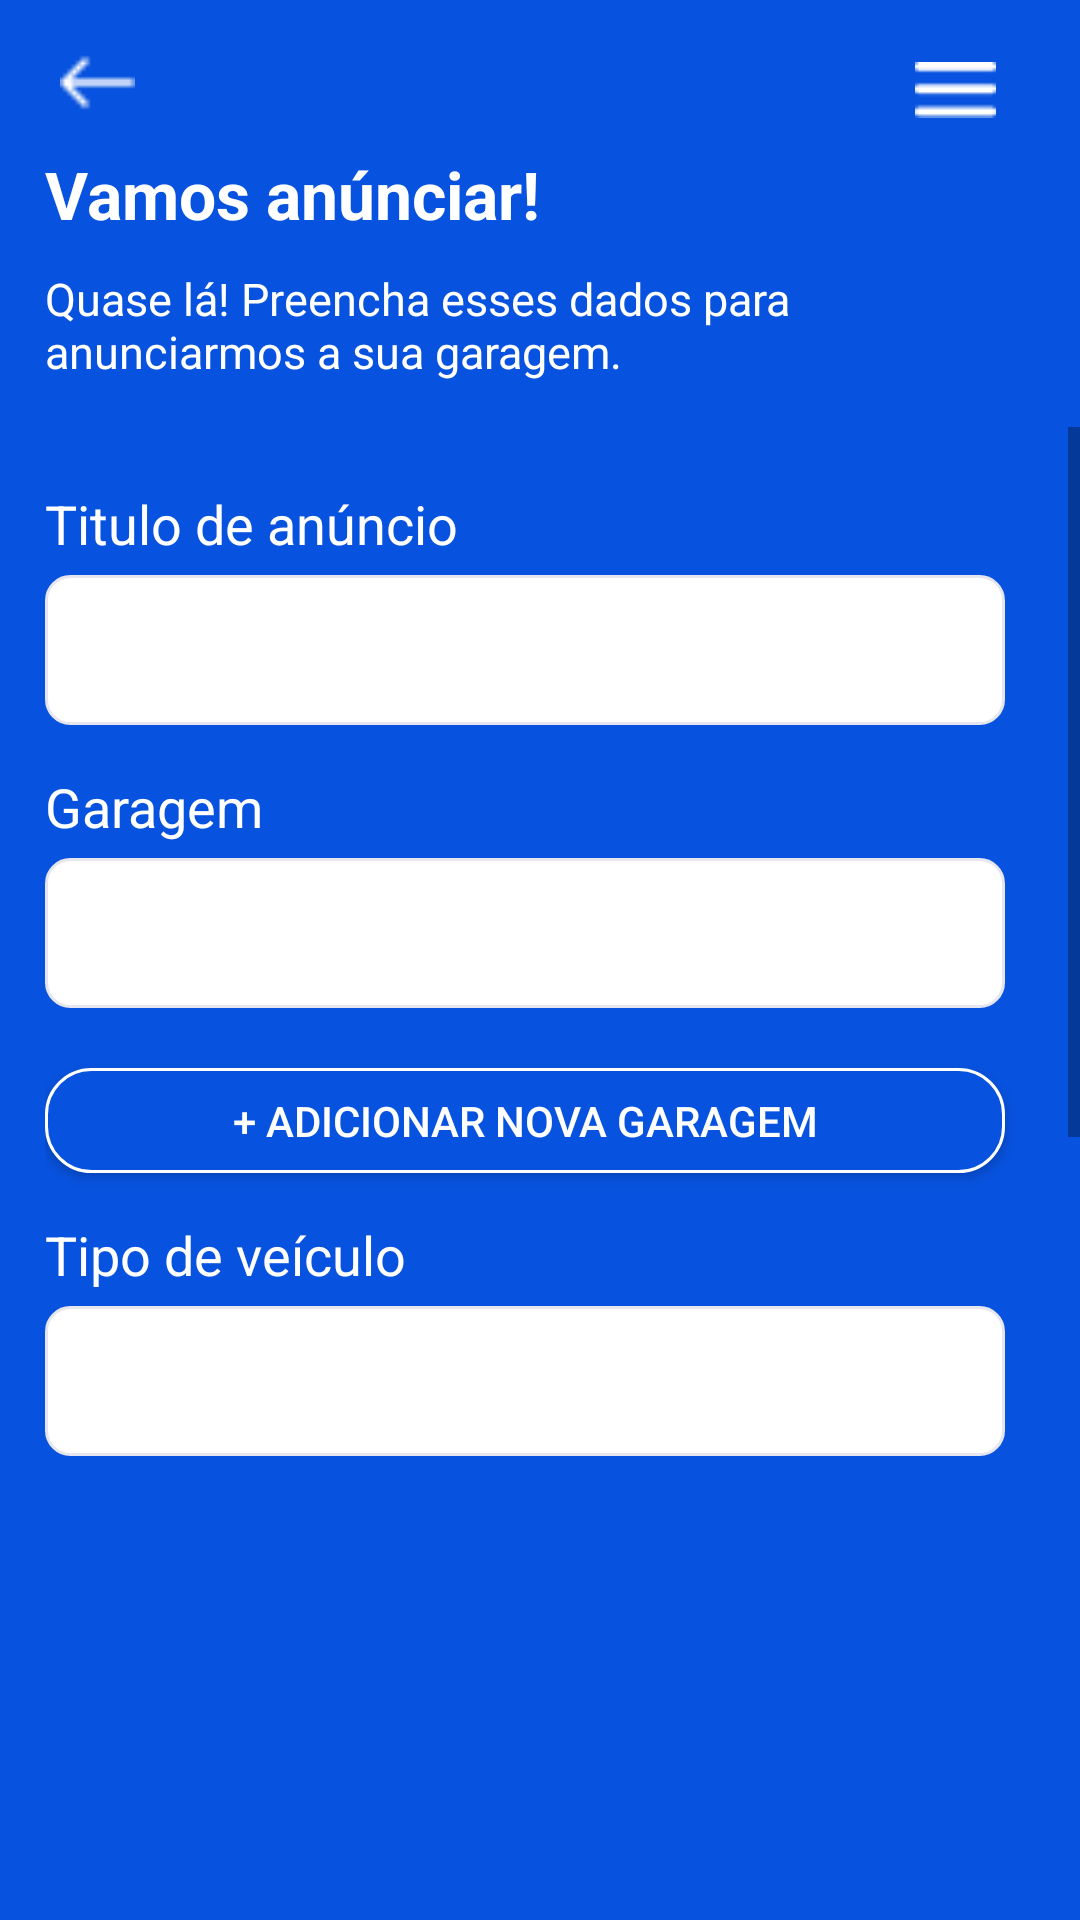

Where to tap for icons on this 1080px×1920px app screen, as (x=x, y=y):
menu: (x=955, y=90)
seta voltar: (x=97, y=82)
